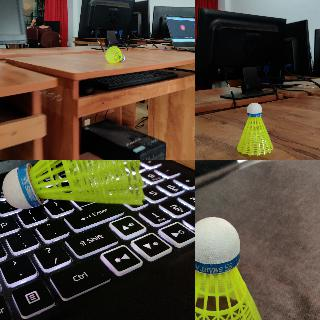shuttlecock: (195, 218, 265, 319), (2, 160, 147, 208), (237, 102, 273, 154), (105, 46, 125, 62)
